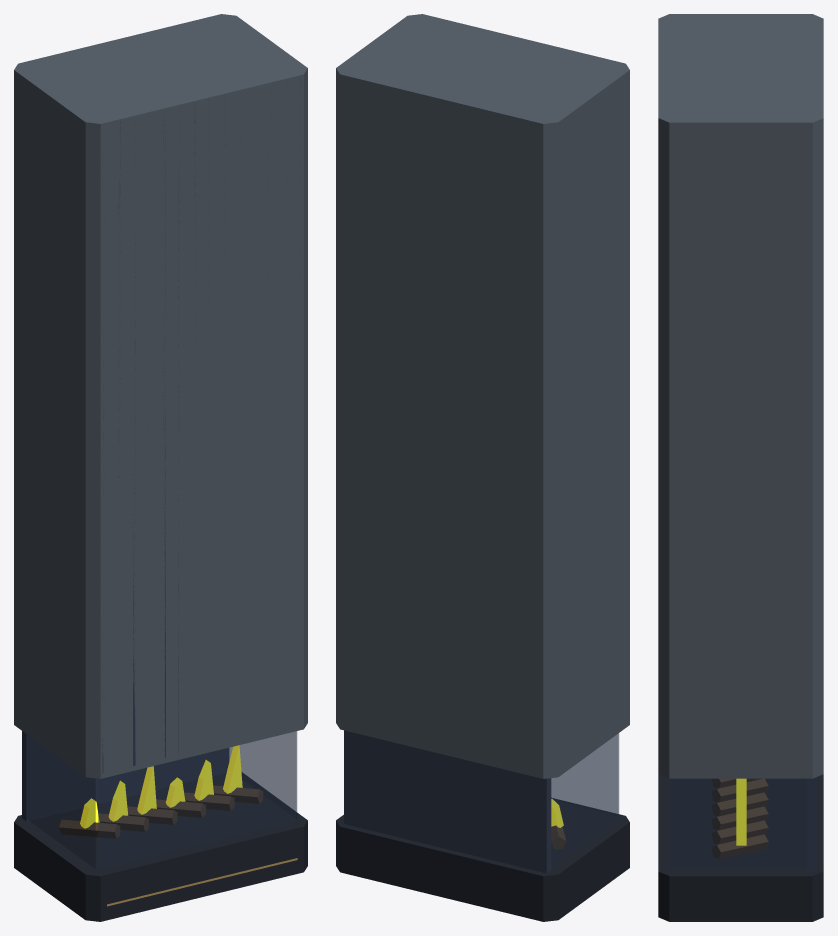
Rendered from res_fireplace_column.glb.
3 renders of one model, left to right at view 1: azimuth 30°, elevation 25°; view 2: azimuth 150°, elevation 25°; view 3: azimuth 270°, elevation 25°, orthographic.
Parts seen in each view (by area): view 1: chimney, hearth, firebox_glass, firebox_back, charred_log, amber_flame; view 2: chimney, firebox_back, hearth, firebox_glass; view 3: chimney, hearth, firebox_glass, charred_log, firebox_back, amber_flame.
Boxes of the visible parts, <box> form: chimney: <box>14,14,307,778</box>; hearth: <box>14,772,307,921</box>; firebox_glass: <box>27,731,296,868</box>; firebox_back: <box>22,83,301,821</box>; charred_log: <box>59,785,263,838</box>; amber_flame: <box>80,745,242,828</box>; chimney: <box>336,14,629,778</box>; firebox_back: <box>344,730,551,873</box>; hearth: <box>336,798,629,921</box>; firebox_glass: <box>551,733,618,866</box>; chimney: <box>658,14,823,778</box>; hearth: <box>658,774,823,921</box>; firebox_glass: <box>670,779,806,868</box>; charred_log: <box>712,778,768,859</box>; firebox_back: <box>807,777,816,871</box>; amber_flame: <box>736,778,746,845</box>.
Size of the model in its own units: 2.8 by 9.6 by 1.8.
